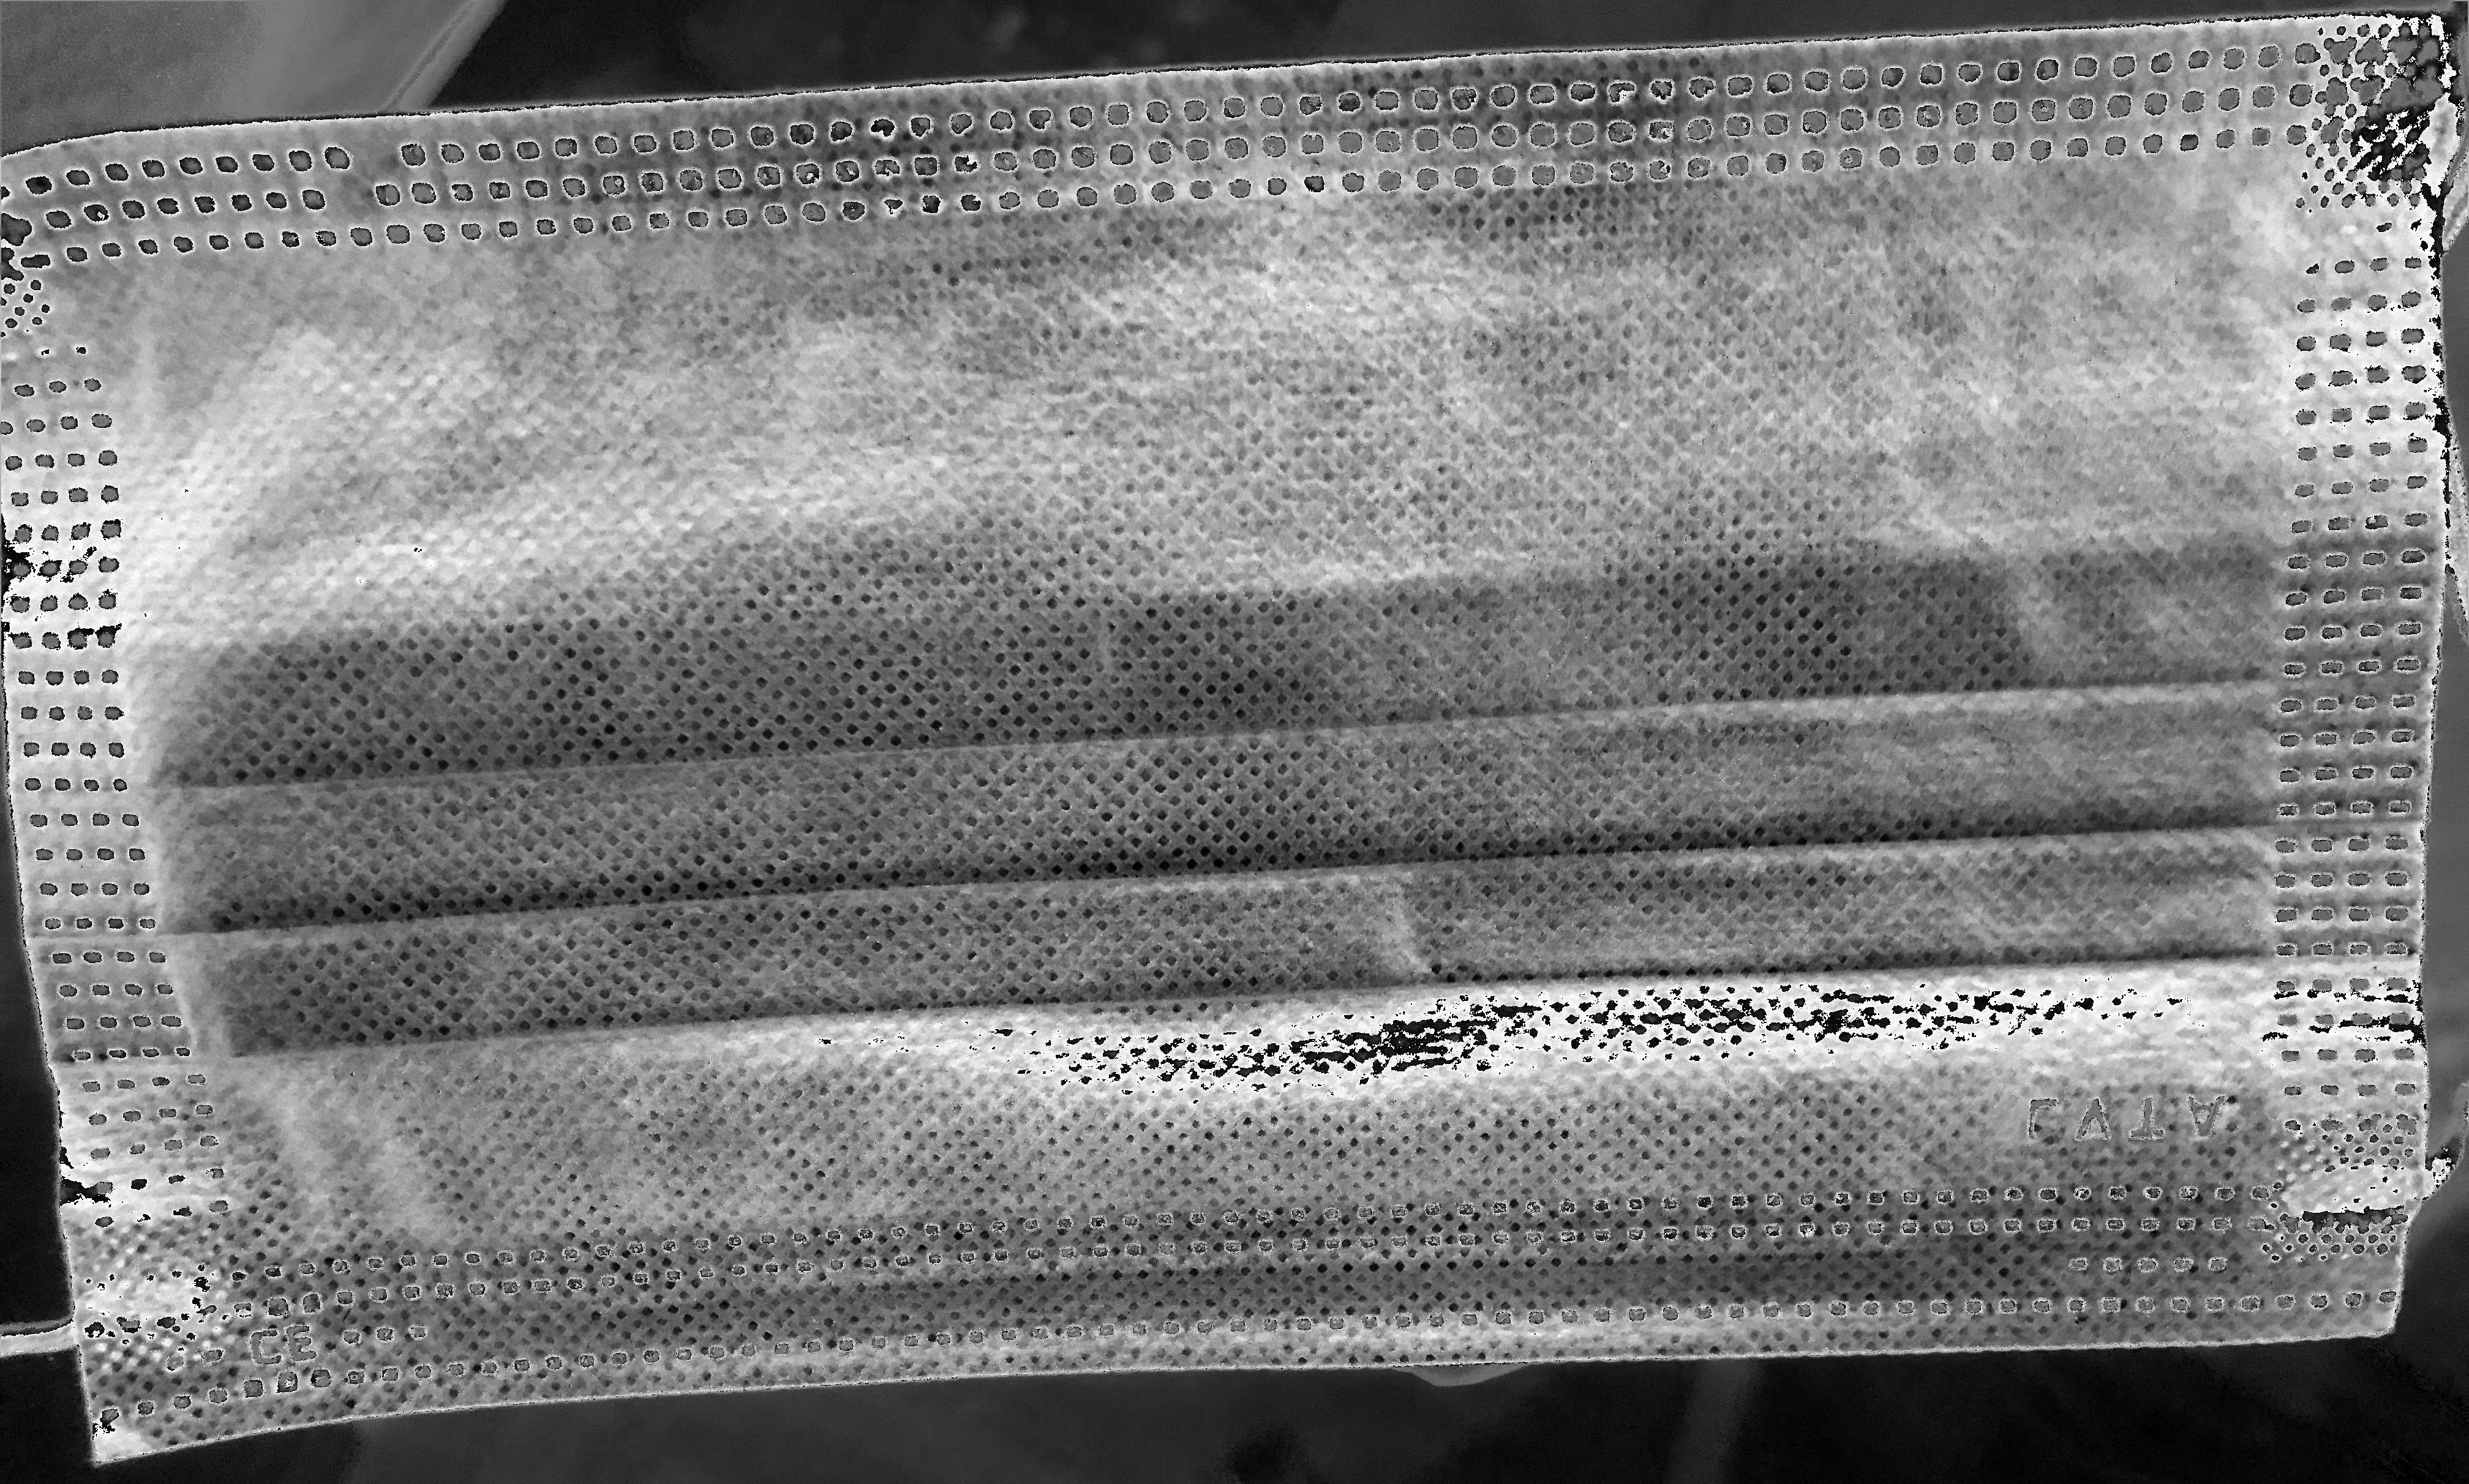High GSM: (554, 654, 2259, 959), (1337, 518, 2279, 871), (86, 277, 540, 624)
